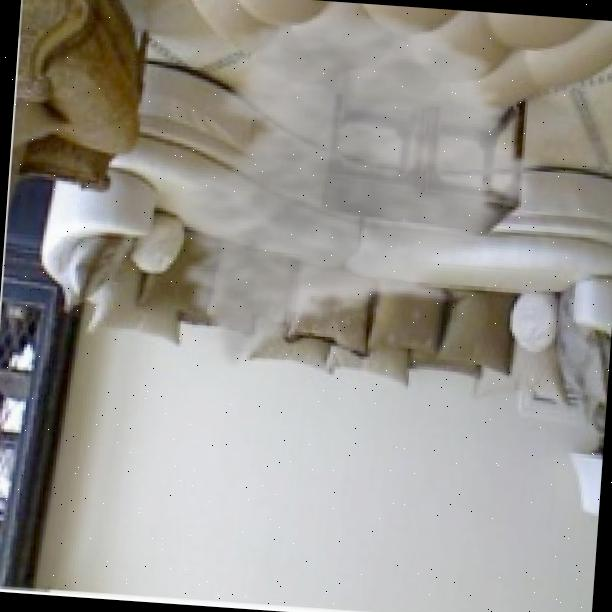smoke: (149, 0, 559, 391)
